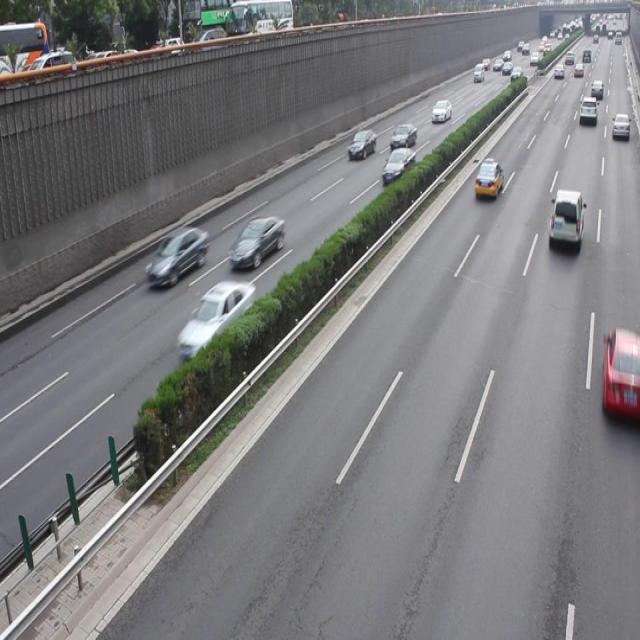car: (175, 279, 254, 360), (145, 224, 208, 288), (600, 328, 640, 424), (228, 213, 285, 270), (548, 188, 583, 248), (380, 148, 415, 183), (473, 160, 502, 200)
